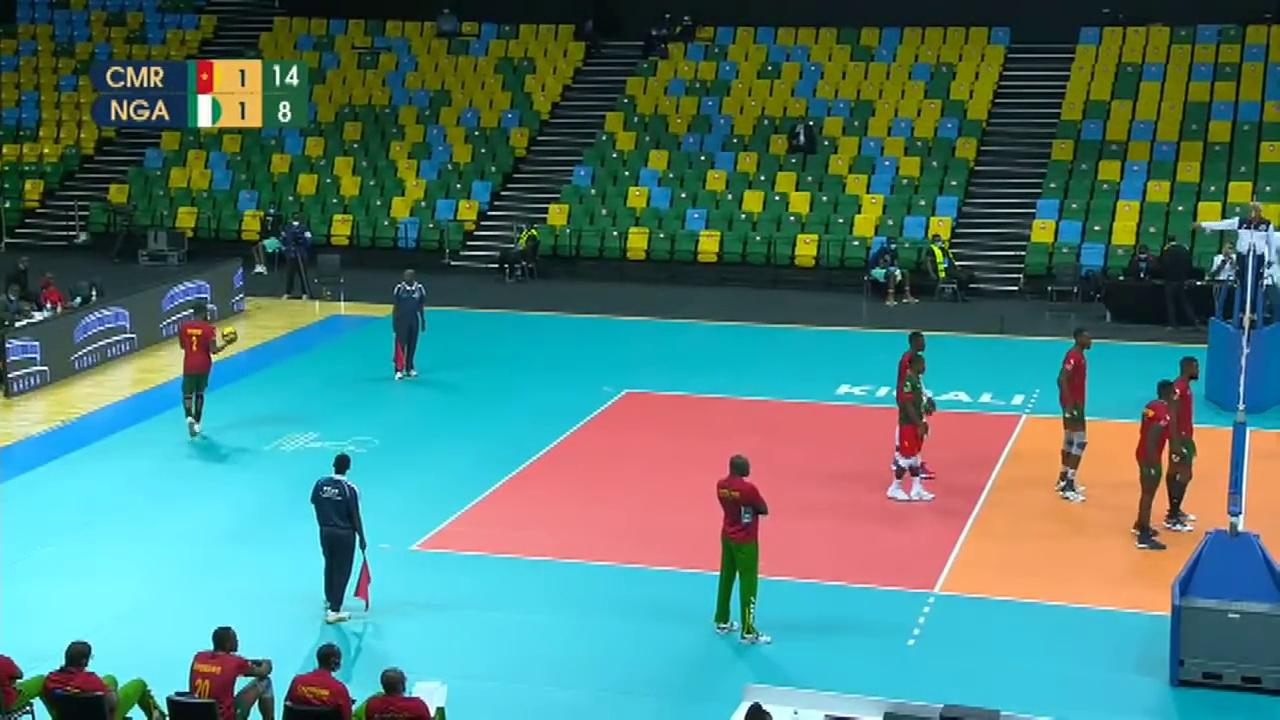player: (176, 291, 233, 451), (1162, 349, 1208, 538), (887, 359, 940, 513), (1132, 377, 1175, 551), (1055, 331, 1095, 501), (893, 329, 942, 462)
refree: (309, 453, 370, 619), (1215, 193, 1277, 316), (391, 269, 427, 380)
